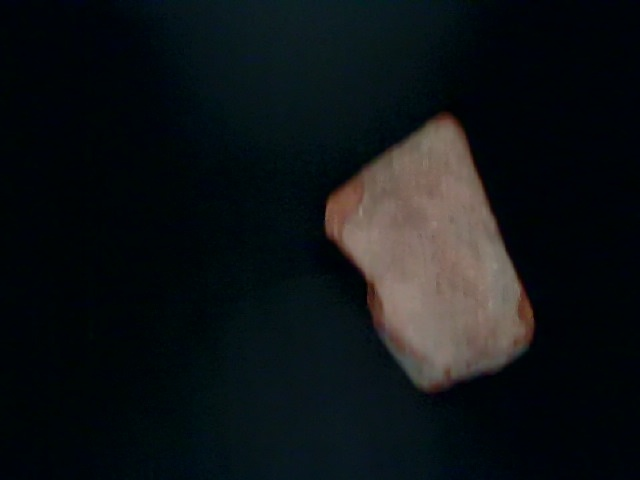KHSLJ: (1, 176, 293, 475)
